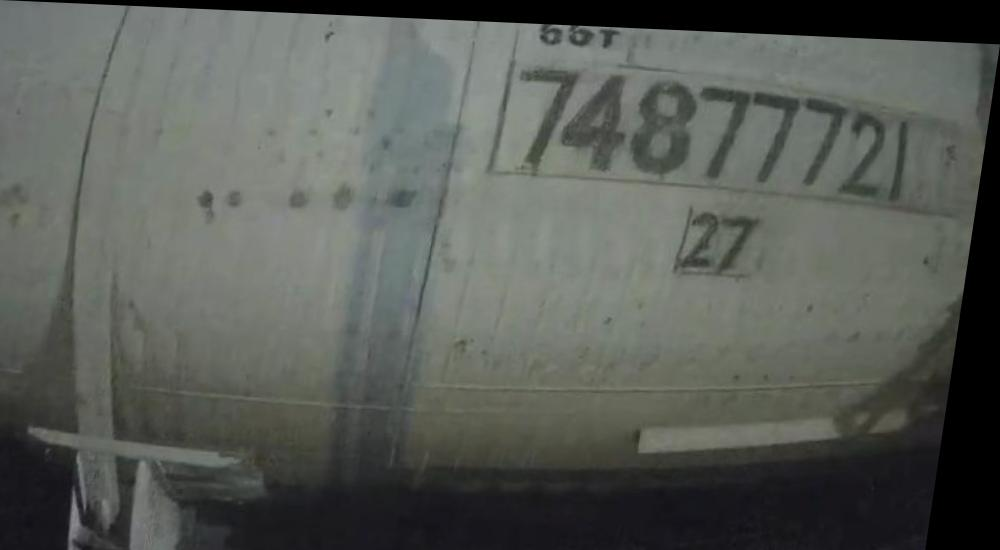Wagon-number: (505, 57, 929, 198)
